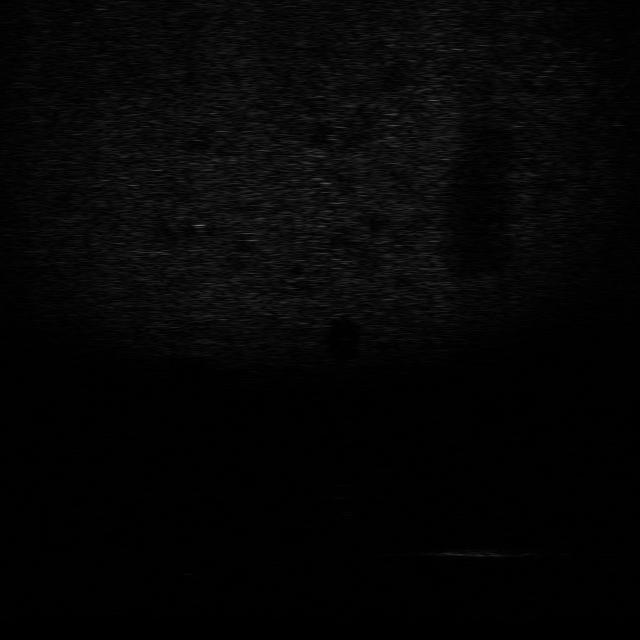ball: (322, 480, 363, 502)
metal bucket: (431, 536, 521, 562)
tyre: (170, 549, 226, 582)
